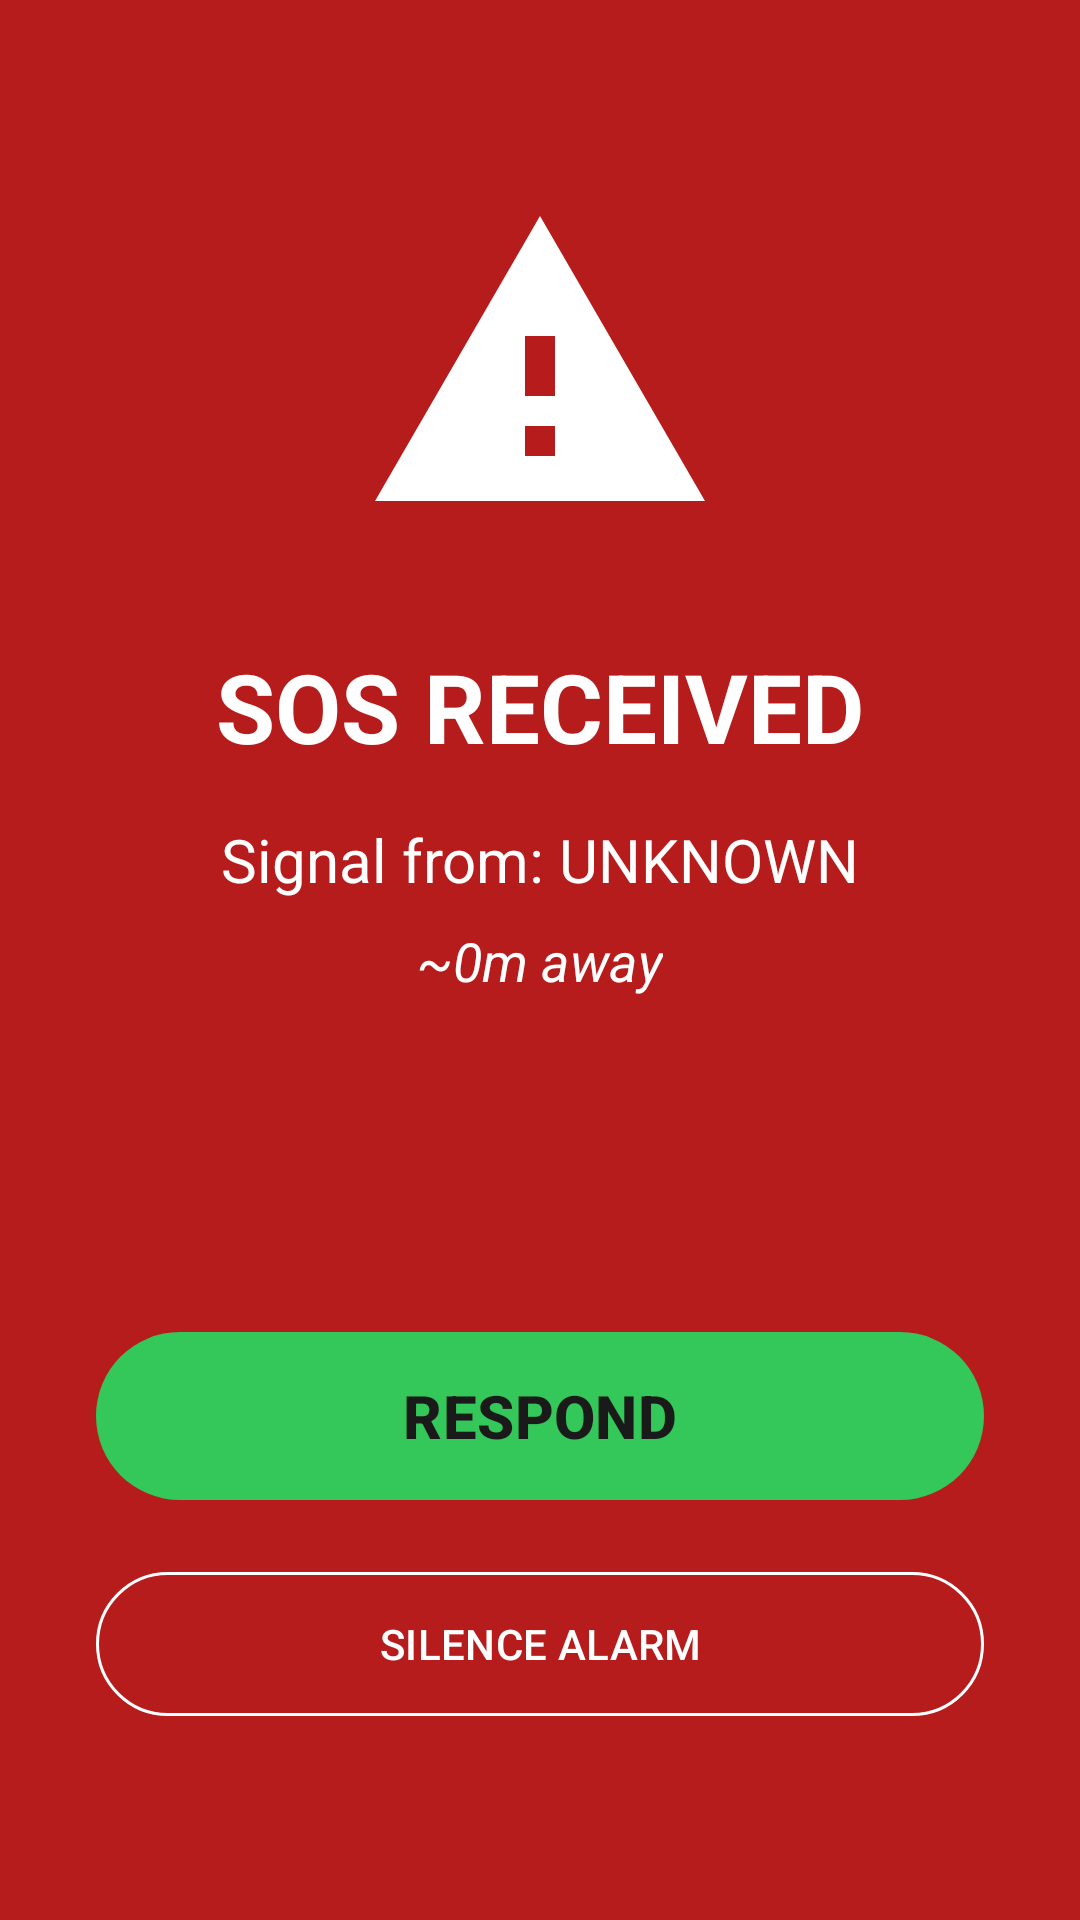

Screen size 1080w x 1920h. Icon name, then its box in pixels as detection(x1, y1, x2, y2):
warning: detection(375, 216, 705, 501)
